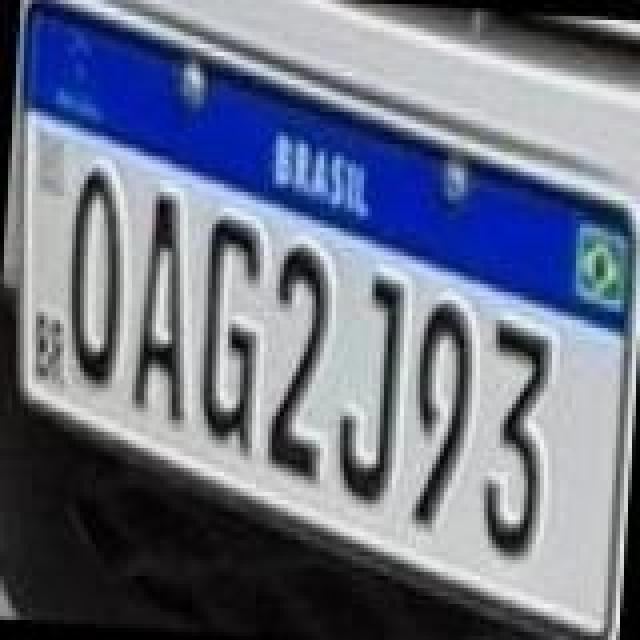2: (262, 240, 338, 488)
3: (478, 310, 562, 562)
9: (408, 294, 488, 538)
A: (130, 188, 206, 428)
G: (192, 210, 272, 454)
J: (328, 268, 408, 508)
O: (58, 164, 134, 388)
